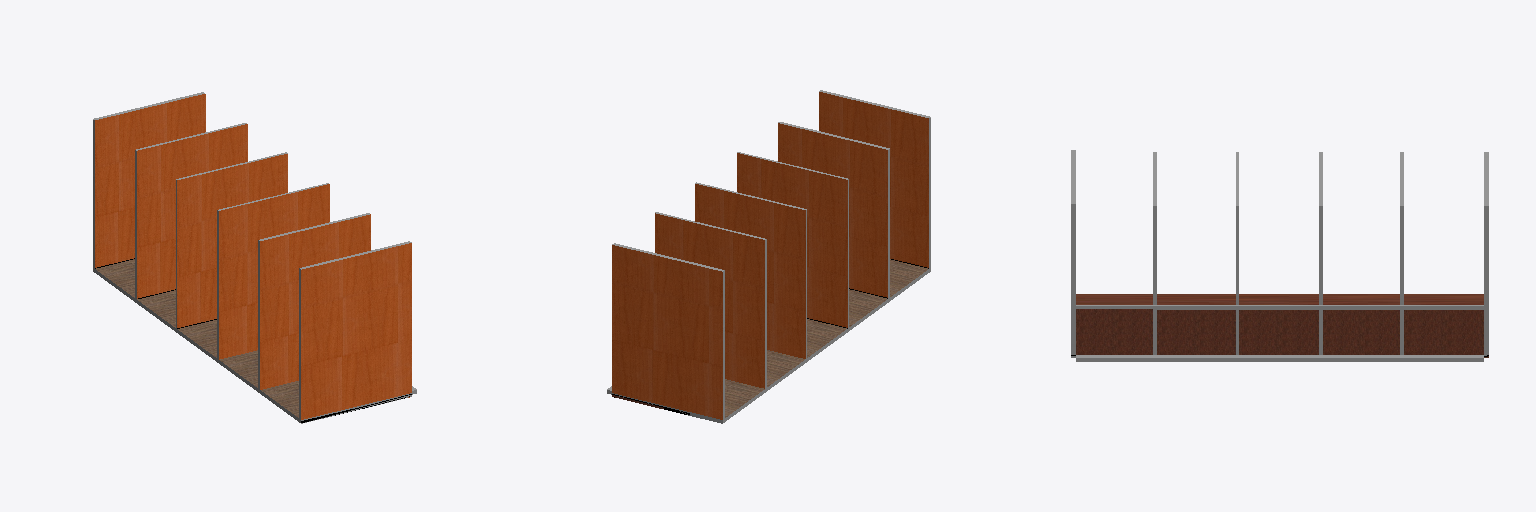
3 renders of one model, left to right at view 1: azimuth 30°, elevation 25°; view 2: azimuth 150°, elevation 25°; view 3: azimuth 270°, elevation 25°, orthographic.
Visible parts, largest first — view 1: cabinas; view 2: cabinas; view 3: cabinas.
Boxes of the visible parts, x1=… form: cabinas: x1=93, y1=92, x2=416, y2=423; cabinas: x1=607, y1=90, x2=930, y2=423; cabinas: x1=1071, y1=150, x2=1488, y2=361.
Size of the model in its own units: 4.99 by 6.22 by 15.25.
Materials: 1 (1 with a texture image).